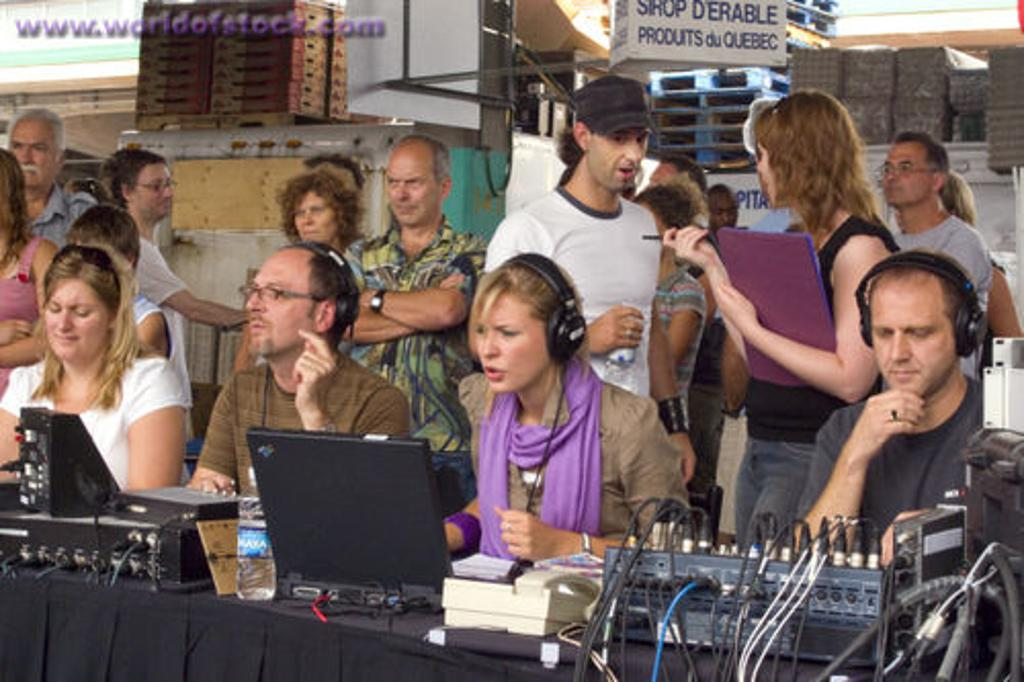face: (870, 275, 954, 397), (474, 295, 546, 391), (245, 253, 312, 356), (44, 278, 104, 356), (590, 121, 646, 190), (386, 150, 436, 225), (8, 120, 54, 188), (881, 142, 929, 205), (756, 138, 797, 208), (292, 191, 337, 247), (131, 164, 173, 218), (647, 164, 682, 213), (711, 194, 737, 235)
